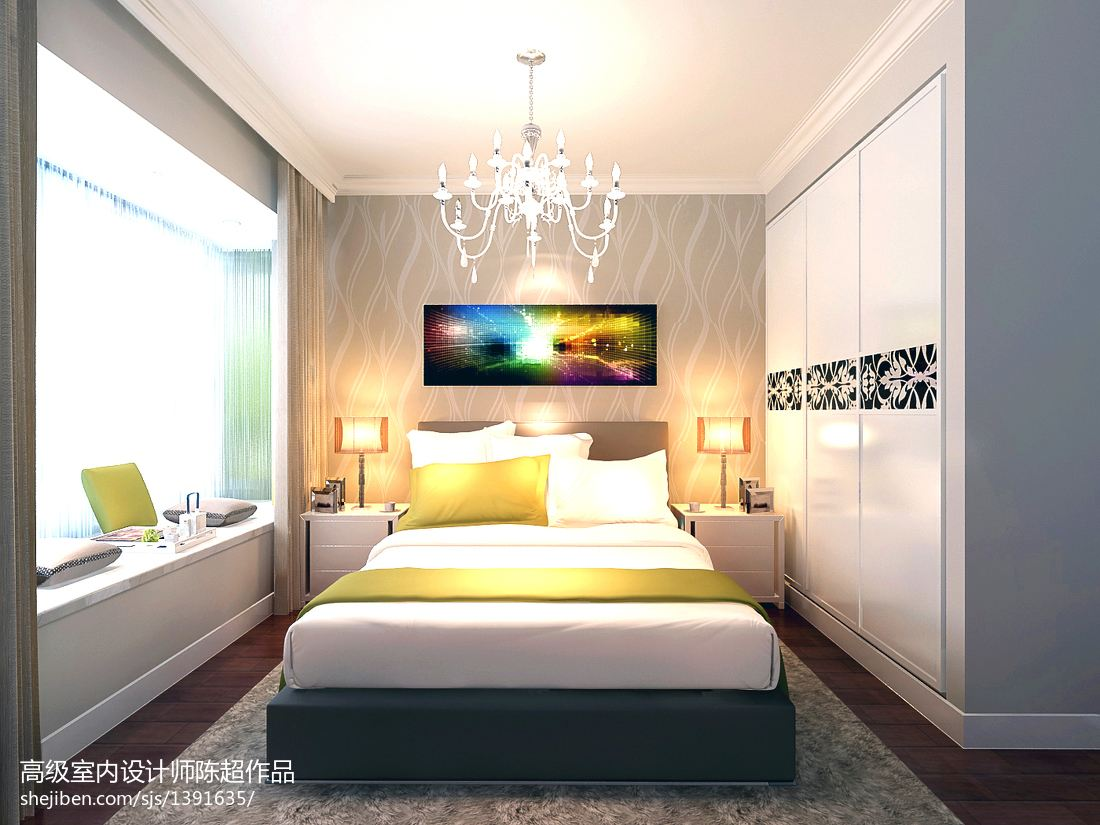床: (290, 509, 776, 803)
枕头: (399, 424, 682, 538)
灯: (427, 48, 634, 283), (700, 414, 761, 515), (328, 413, 390, 511)
